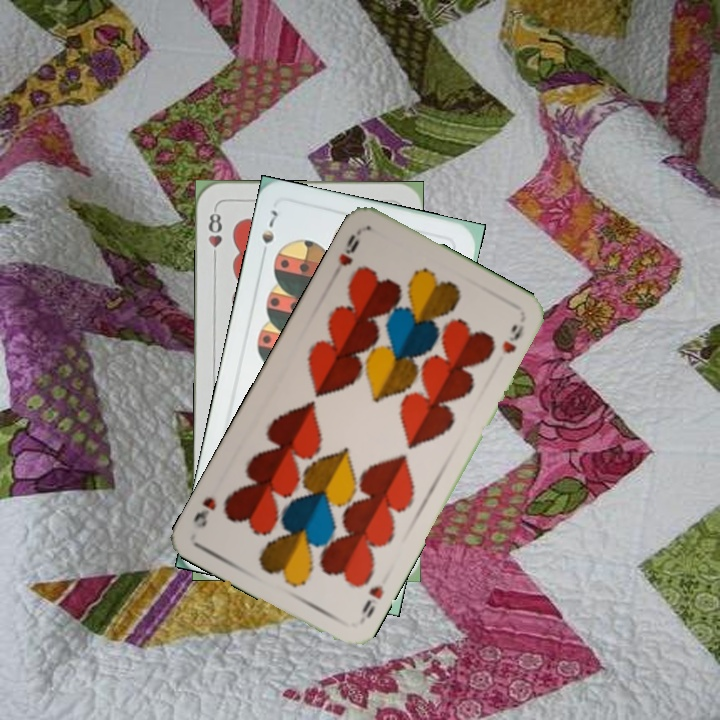H8: (204, 205, 225, 264)
H9: (334, 226, 364, 269), (358, 581, 387, 621)
S7: (257, 205, 280, 262)
